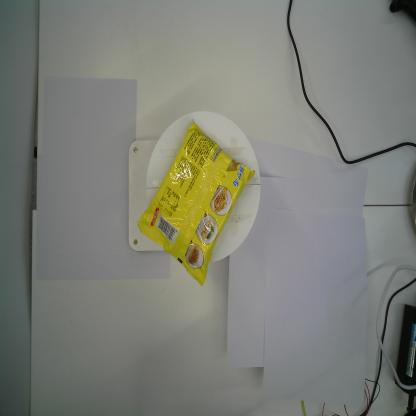Instant Noodles: (137, 118, 256, 288)
